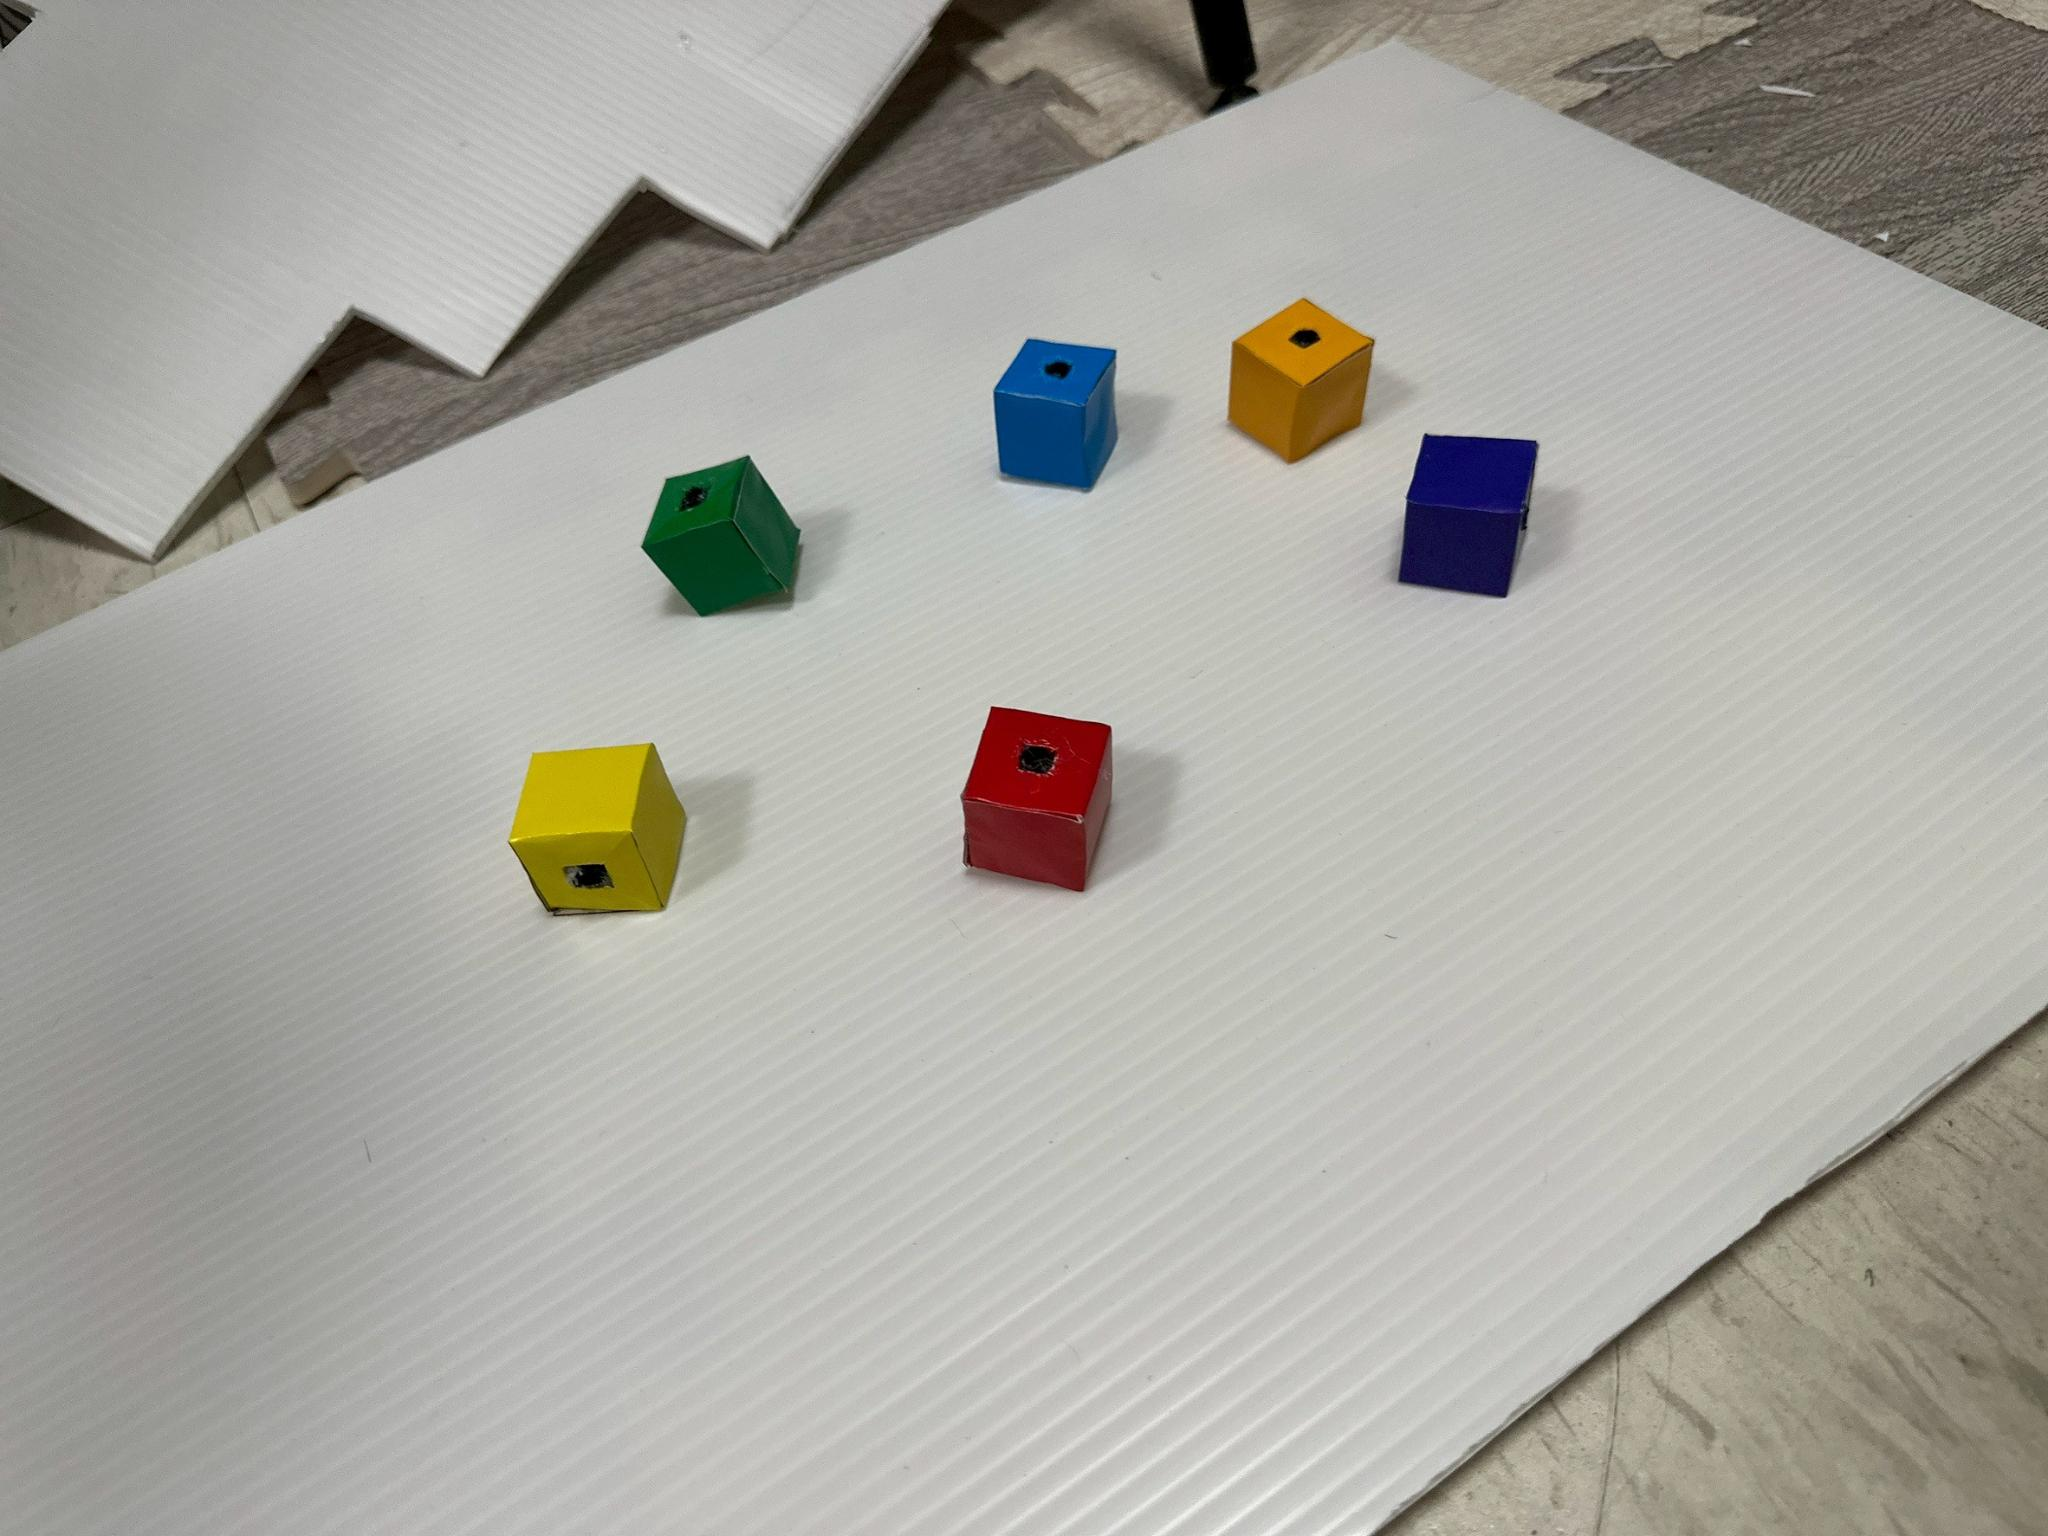cube: (508, 744, 685, 912), (963, 707, 1113, 891), (643, 458, 798, 615), (1230, 300, 1374, 461), (1398, 436, 1538, 597), (995, 339, 1116, 489)
